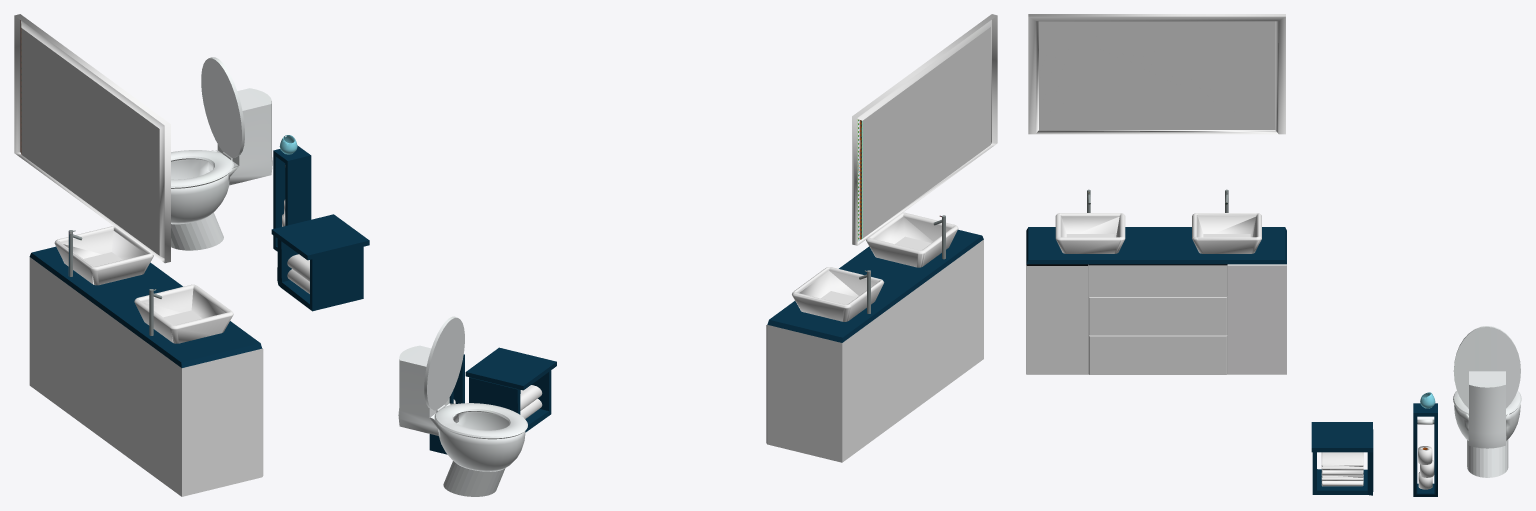
The model's file is Baño DROGUERIA .fbx.
3 views of the same model, side by side, from view 1: azimuth 30°, elevation 25°; view 2: azimuth 150°, elevation 25°; view 3: azimuth 270°, elevation 25° (orthographic). The views are drawn at different scales.
Visible parts, largest first — view 1: Plane.002, Cylinder.001, Plane, baño.002, baño.007, baño; view 2: Plane.002, Cylinder.001, Plane; view 3: Plane.002, Cylinder.001, Plane, baño, baño.001, baño.014.
Boxes of the visible parts, x1=… form: Plane.002: x1=14, y1=14, x2=263, y2=496; Cylinder.001: x1=171, y1=57, x2=272, y2=250; Plane: x1=271, y1=214, x2=369, y2=311; baño.002: x1=287, y1=155, x2=311, y2=225; baño.007: x1=275, y1=156, x2=285, y2=245; baño: x1=287, y1=254, x2=309, y2=293; Plane.002: x1=766, y1=14, x2=997, y2=462; Cylinder.001: x1=398, y1=316, x2=527, y2=496; Plane: x1=465, y1=347, x2=556, y2=432; Plane.002: x1=1026, y1=14, x2=1286, y2=374; Cylinder.001: x1=1453, y1=326, x2=1521, y2=477; Plane: x1=1311, y1=422, x2=1373, y2=495; baño: x1=1321, y1=452, x2=1363, y2=486; baño.001: x1=1413, y1=413, x2=1437, y2=496; baño.014: x1=1418, y1=446, x2=1434, y2=489.
Size of the model in its own units: 238 by 235 by 321.
6 materials, 6 textured.
